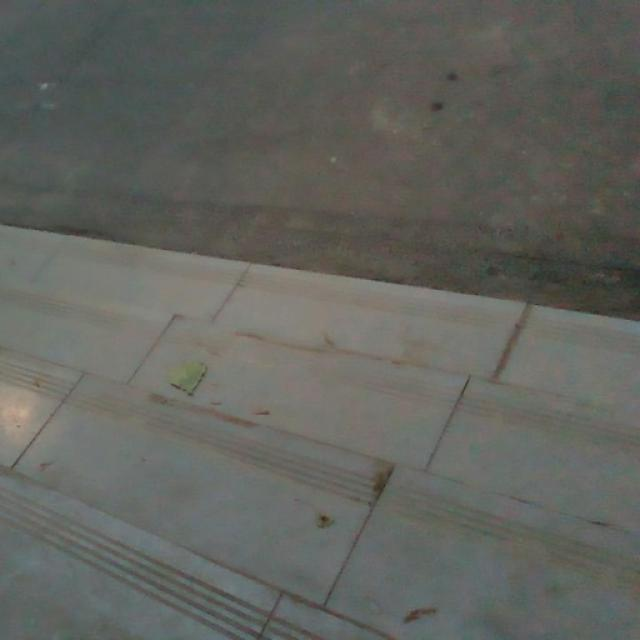stair: (11, 222, 640, 574)
